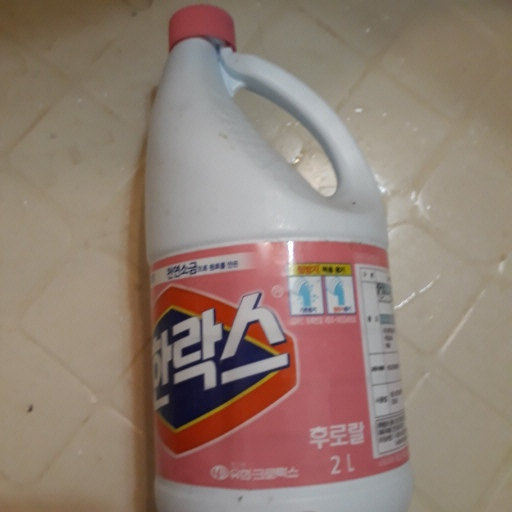Plastic_1: (139, 3, 416, 508)
